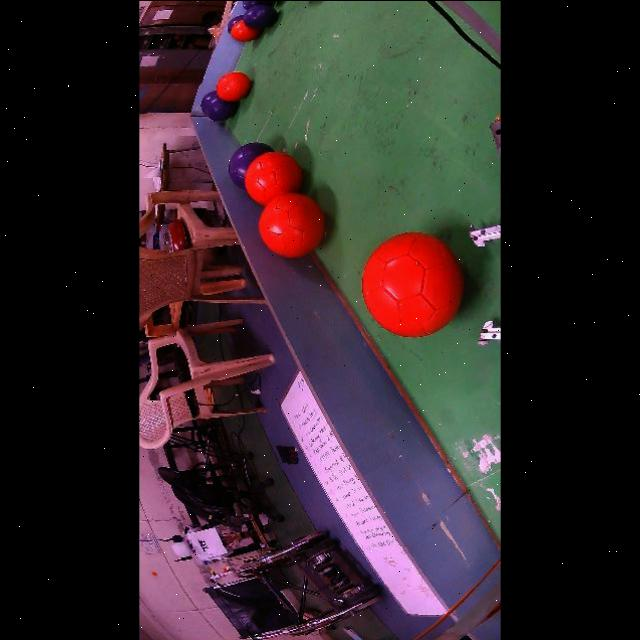P: (229, 141, 272, 188), (201, 89, 239, 121), (244, 4, 278, 29), (243, 0, 263, 10)
R: (363, 230, 465, 336), (259, 192, 326, 256), (245, 151, 303, 205), (216, 71, 251, 100), (231, 19, 263, 41)
